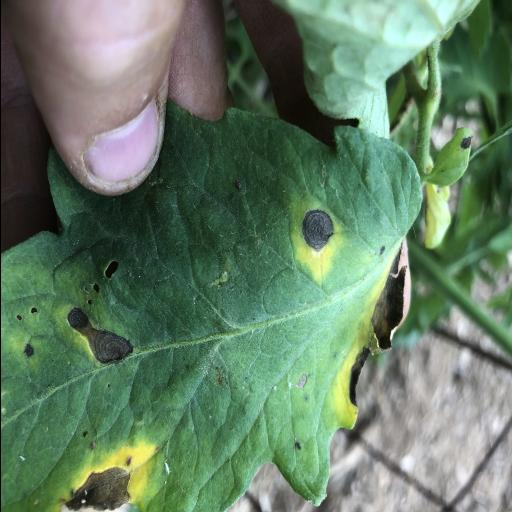Early Blight: (0, 101, 421, 512)
